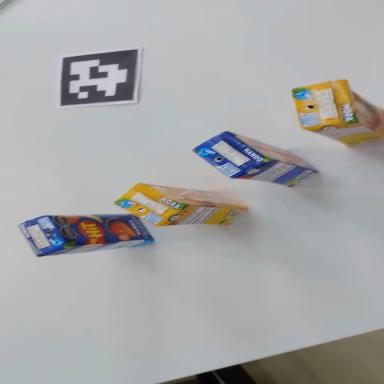HIT-MANGO: (189, 123, 321, 204), (18, 204, 154, 259)
HIT-MORA: (113, 181, 249, 237), (291, 76, 384, 152)
cara_F: (48, 207, 154, 248), (223, 131, 322, 174), (139, 183, 248, 212), (332, 81, 384, 141)
